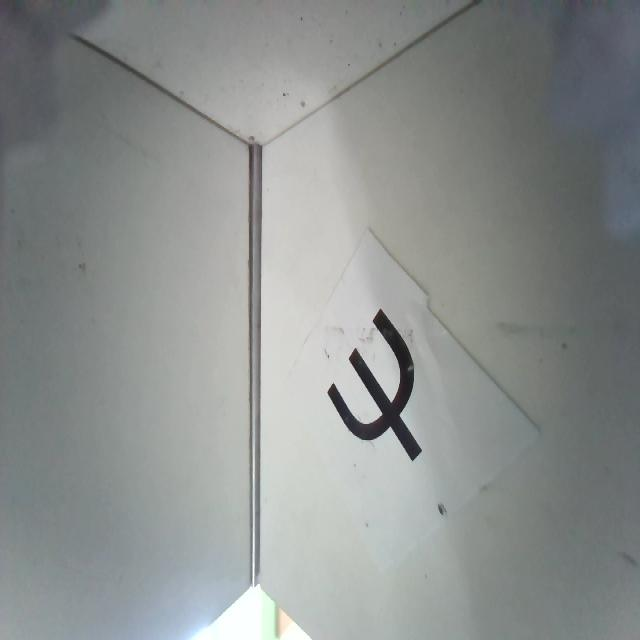nedoF: (325, 304, 422, 459)
